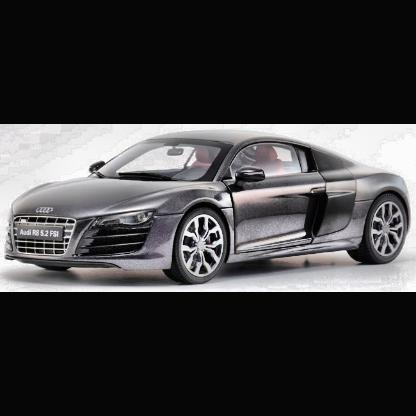Audi R8 Coupe 2012: (6, 132, 413, 286)
